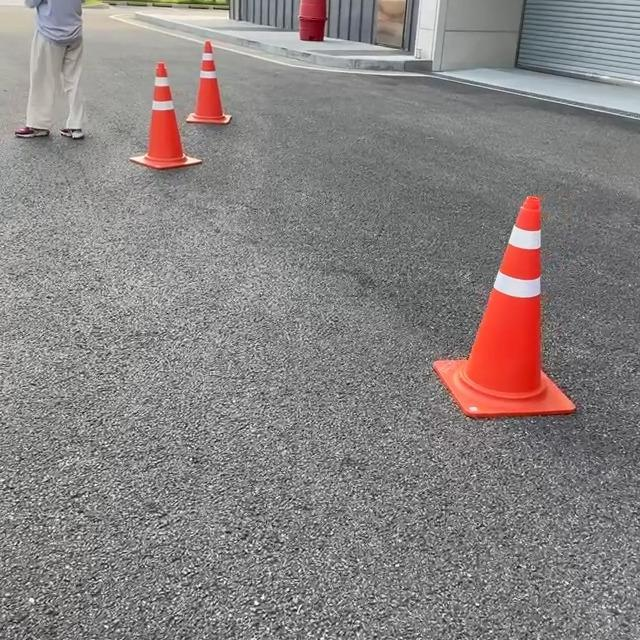fallen_object: (416, 176, 590, 409), (157, 32, 278, 142), (135, 62, 212, 210)
